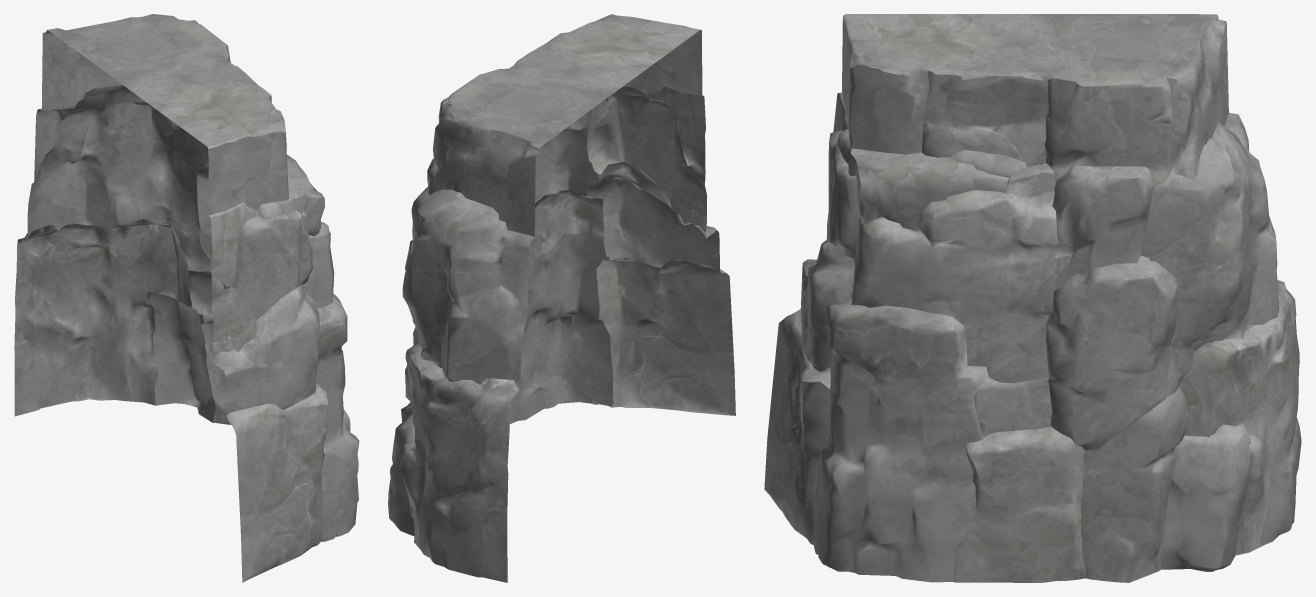
Rendered from SM_Com_Roc_15AL.fbx.
3 renders of one model, left to right at view 1: azimuth 30°, elevation 25°; view 2: azimuth 150°, elevation 25°; view 3: azimuth 270°, elevation 25°, orthographic. The views are drawn at different scales.
Visible parts, largest first — view 1: SM_Com_Roc_15AL.mo; view 2: SM_Com_Roc_15AL.mo; view 3: SM_Com_Roc_15AL.mo.
Part boxes in pixels (x1,y1,x2,y2): SM_Com_Roc_15AL.mo: (14, 14, 359, 582); SM_Com_Roc_15AL.mo: (388, 14, 735, 582); SM_Com_Roc_15AL.mo: (764, 14, 1301, 582).
Size of the model in its own units: 64.35 by 152 by 154.
